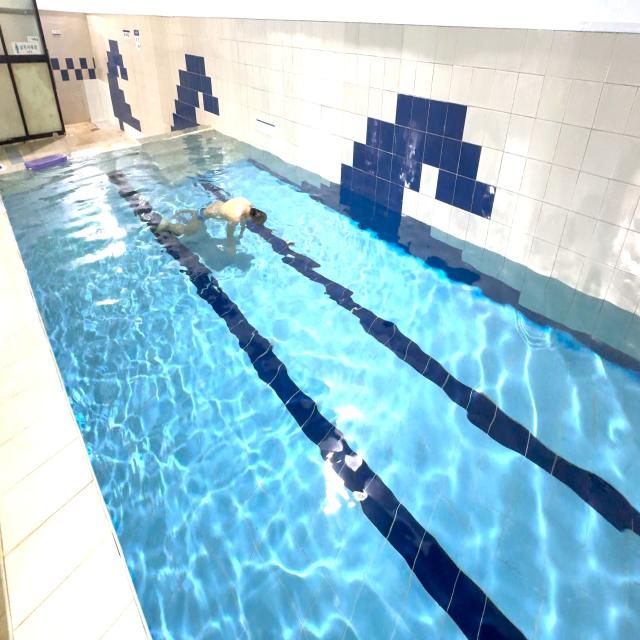Swimming: (156, 170, 280, 266)
